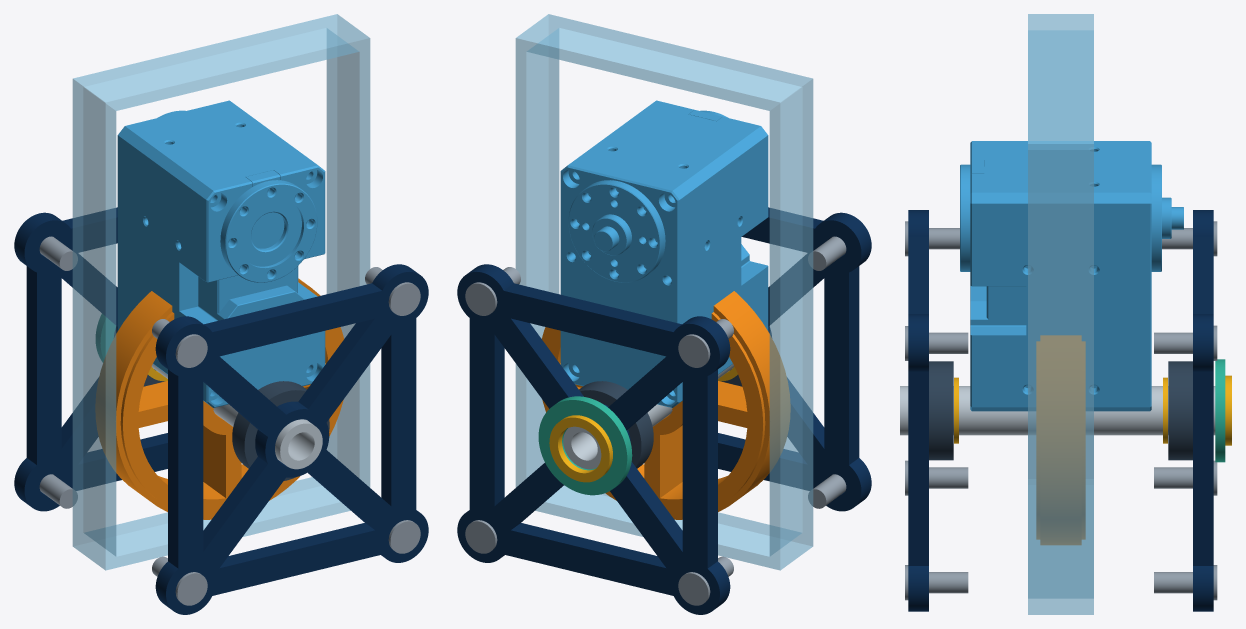
File: JMF-09-KNEE-REDUCED-25_assembly.glb
3 views of the same model, side by side, from view 1: azimuth 30°, elevation 25°; view 2: azimuth 150°, elevation 25°; view 3: azimuth 270°, elevation 25° (orthographic).
Visible parts, largest first — view 1: TRANSMISSION_GUARD, CARRIER_A, ACTUATOR, CARRIER_B, OUTPUT_PULLEY, TIMING_BELT, OUTPUT_SHAFT, BEARING_A, CARRIER_A_SCREW_22, CARRIER_A_SCREW_21, CARRIER_A_SCREW_12, CARRIER_A_SCREW_11 (+3 smaller); view 2: TRANSMISSION_GUARD, CARRIER_B, ACTUATOR, CARRIER_A, OUTPUT_PULLEY, TIMING_BELT, OUTPUT_ENCODER_CARRIER, OUTPUT_MAGNET_HUB, BEARING_B, OUTPUT_SHAFT, CARRIER_B_SCREW_22, CARRIER_B_SCREW_21 (+4 smaller); view 3: ACTUATOR, TRANSMISSION_GUARD, TIMING_BELT, CARRIER_A, CARRIER_B, OUTPUT_SHAFT, BEARING_A, BEARING_B, OUTPUT_PULLEY, OUTPUT_ENCODER_CARRIER, CARRIER_B_SCREW_11, CARRIER_B_SCREW_12 (+7 smaller).
Part boxes in pixels (x1=…): TRANSMISSION_GUARD: x1=72, y1=14, x2=370, y2=570; CARRIER_A: x1=155, y1=264, x2=428, y2=614; ACTUATOR: x1=117, y1=100, x2=325, y2=407; CARRIER_B: x1=14, y1=207, x2=167, y2=511; OUTPUT_PULLEY: x1=120, y1=312, x2=341, y2=515; TIMING_BELT: x1=95, y1=278, x2=343, y2=519; OUTPUT_SHAFT: x1=151, y1=364, x2=322, y2=469; BEARING_A: x1=232, y1=381, x2=329, y2=480; CARRIER_A_SCREW_22: x1=152, y1=319, x2=207, y2=367; CARRIER_A_SCREW_21: x1=152, y1=556, x2=207, y2=605; CARRIER_A_SCREW_12: x1=365, y1=267, x2=420, y2=315; CARRIER_A_SCREW_11: x1=388, y1=520, x2=420, y2=553; TRANSMISSION_GUARD: x1=515, y1=14, x2=813, y2=570; CARRIER_B: x1=457, y1=264, x2=730, y2=614; ACTUATOR: x1=560, y1=100, x2=768, y2=407; CARRIER_A: x1=718, y1=207, x2=871, y2=511; OUTPUT_PULLEY: x1=544, y1=312, x2=765, y2=515; TIMING_BELT: x1=542, y1=291, x2=790, y2=519; OUTPUT_ENCODER_CARRIER: x1=538, y1=396, x2=632, y2=495; OUTPUT_MAGNET_HUB: x1=549, y1=415, x2=612, y2=482; BEARING_B: x1=579, y1=381, x2=653, y2=468; OUTPUT_SHAFT: x1=563, y1=364, x2=734, y2=469; CARRIER_B_SCREW_22: x1=678, y1=319, x2=733, y2=367; CARRIER_B_SCREW_21: x1=678, y1=556, x2=733, y2=605; ACTUATOR: x1=960, y1=141, x2=1183, y2=411; TRANSMISSION_GUARD: x1=1028, y1=14, x2=1093, y2=614; TIMING_BELT: x1=1040, y1=335, x2=1081, y2=544; CARRIER_A: x1=908, y1=210, x2=928, y2=611; CARRIER_B: x1=1193, y1=210, x2=1213, y2=611; OUTPUT_SHAFT: x1=900, y1=386, x2=1215, y2=435; BEARING_A: x1=929, y1=361, x2=953, y2=460; BEARING_B: x1=1168, y1=361, x2=1192, y2=460; OUTPUT_PULLEY: x1=1036, y1=341, x2=1085, y2=539; OUTPUT_ENCODER_CARRIER: x1=1215, y1=359, x2=1225, y2=462; CARRIER_B_SCREW_11: x1=1154, y1=565, x2=1217, y2=600; CARRIER_B_SCREW_12: x1=1154, y1=325, x2=1217, y2=360.
Bounding box in the file's own units: 74.52 × 128 × 80.4.
